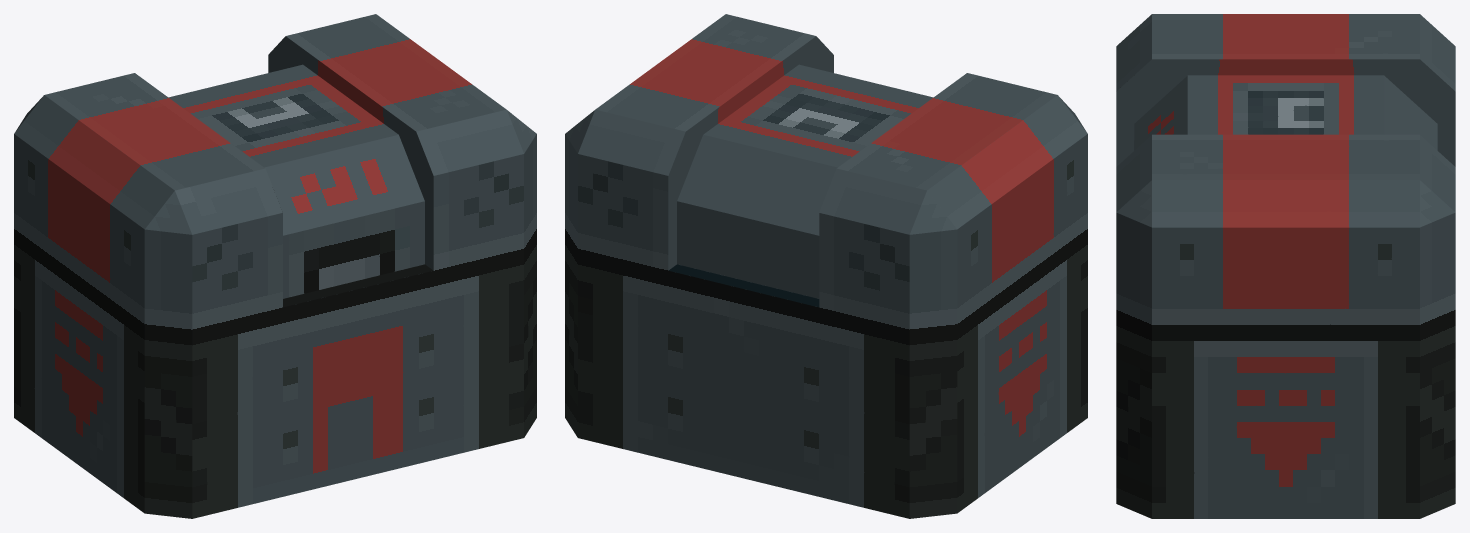
Rendered from tritanium_crate_red.obj.
3 views of the same model, side by side, from view 1: azimuth 30°, elevation 25°; view 2: azimuth 150°, elevation 25°; view 3: azimuth 270°, elevation 25° (orthographic). The views are drawn at different scales.
Parts seen in each view (by area): view 1: base; view 2: base; view 3: base.
Part boxes in pixels (<box>): base: <box>14,14,536,518</box>; base: <box>565,14,1087,518</box>; base: <box>1116,14,1455,518</box>.
Bounding box in the file's own units: 0.9958 × 0.766 × 0.7278.
